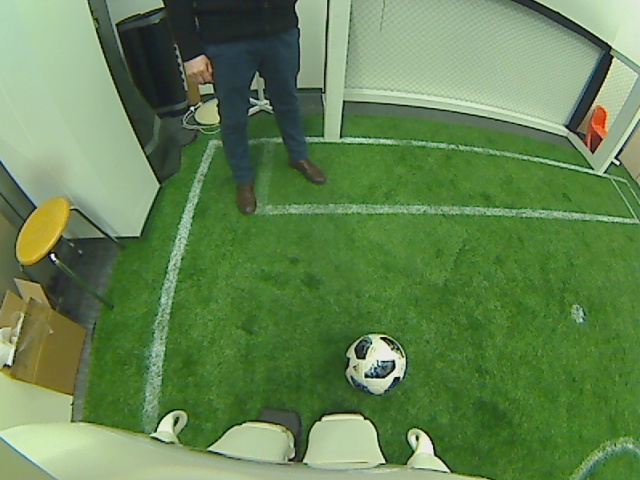ball: (341, 329, 407, 397)
